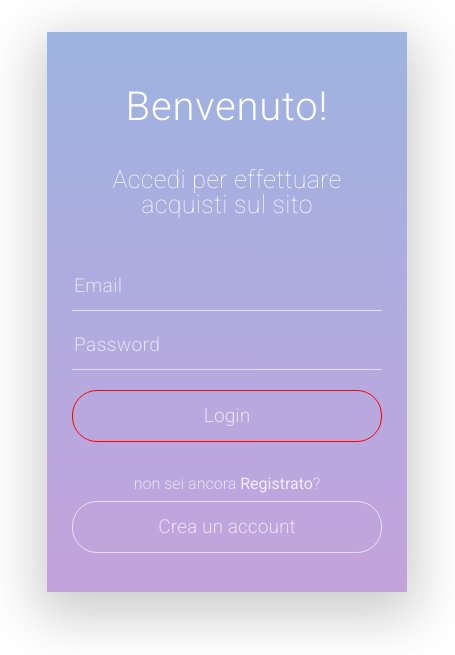
Test: Login › Login fail
The image size is (455, 655).
Step 1. Type "fail" into the field with id "email" → (227, 287), box [72,262,382,311]
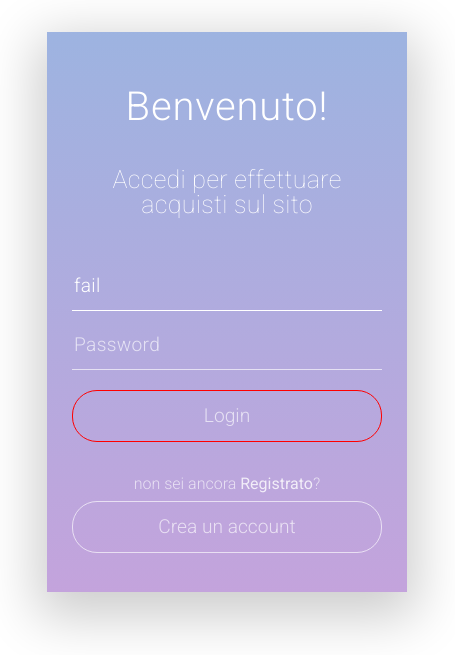
Step 2. Type "fail" into the password field with placeholder "Password" → (227, 346), box [72,321,382,370]
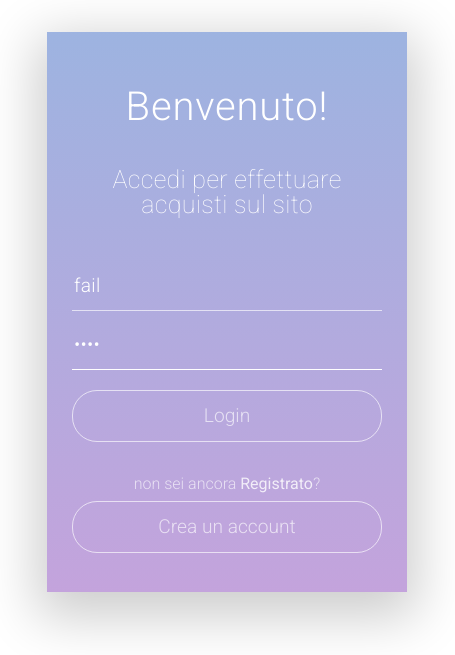
Step 3. Click the button with id "submit" → (227, 416), box [72,390,382,442]
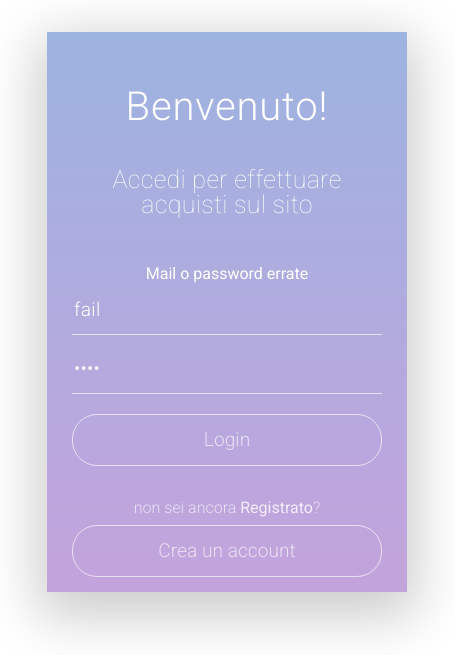
Expected: the text with id "error" reads "Mail o password errate", [146,264,309,283]
